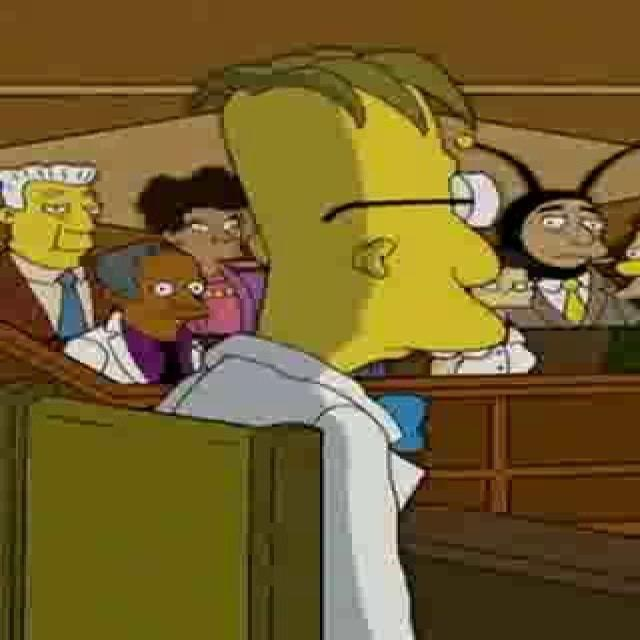Kent Brockman: (0, 160, 96, 275)
